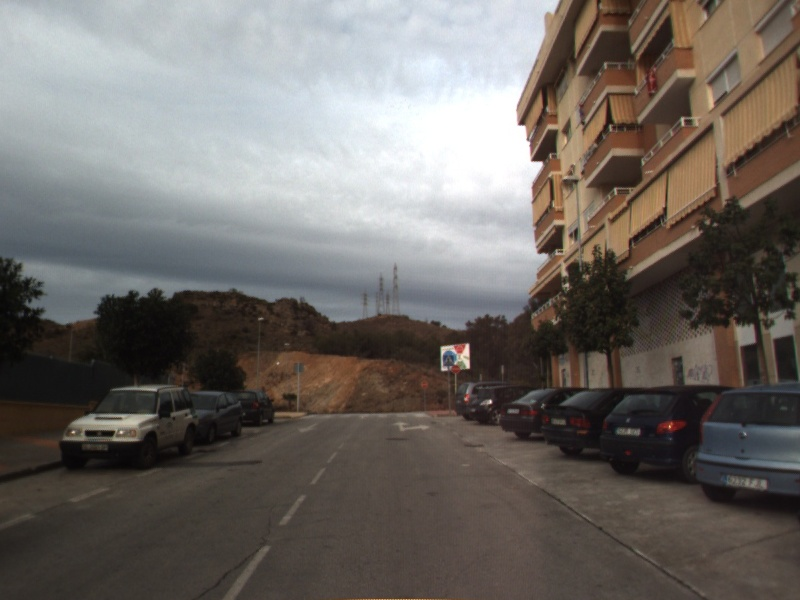STRAIGHT_RIGHT: (390, 419, 432, 433)
